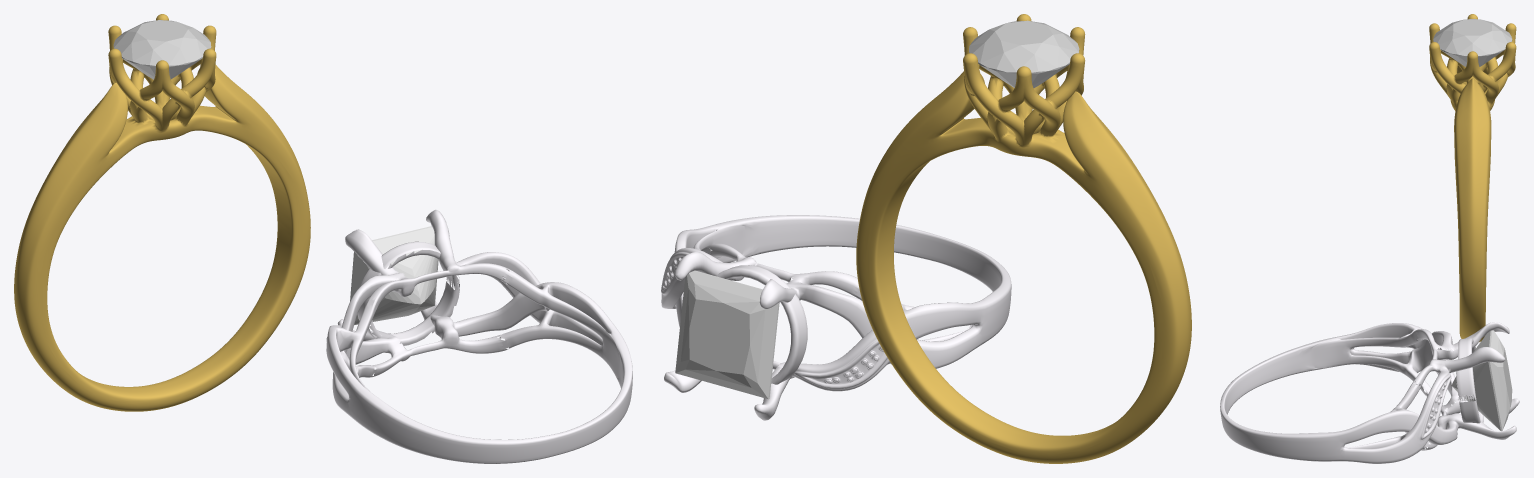
The model's file is ring2.glb.
3 views of the same model, side by side, from view 1: azimuth 30°, elevation 25°; view 2: azimuth 150°, elevation 25°; view 3: azimuth 270°, elevation 25° (orthographic). The views are drawn at different scales.
Parts seen in each view (by area): view 1: 0.8Ct+Bridal+Ring, Box02, Diamond2, Diamond1; view 2: 0.8Ct+Bridal+Ring, Box02, Diamond1, Diamond2; view 3: Box02, 0.8Ct+Bridal+Ring, Diamond1, Diamond2.
Part boxes in pixels (box(x1,y1,x2,y2)): 0.8Ct+Bridal+Ring: box(14, 14, 310, 411); Box02: box(326, 209, 632, 463); Diamond2: box(113, 20, 211, 79); Diamond1: box(350, 226, 438, 325); 0.8Ct+Bridal+Ring: box(856, 14, 1191, 463); Box02: box(661, 215, 1011, 420); Diamond1: box(675, 270, 779, 399); Diamond2: box(969, 20, 1079, 87); Box02: box(1220, 322, 1519, 463); 0.8Ct+Bridal+Ring: box(1429, 14, 1516, 342); Diamond1: box(1451, 330, 1512, 431); Diamond2: box(1433, 19, 1512, 66).
Size of the model in its own units: 7.47 by 5.26 by 4.65.
